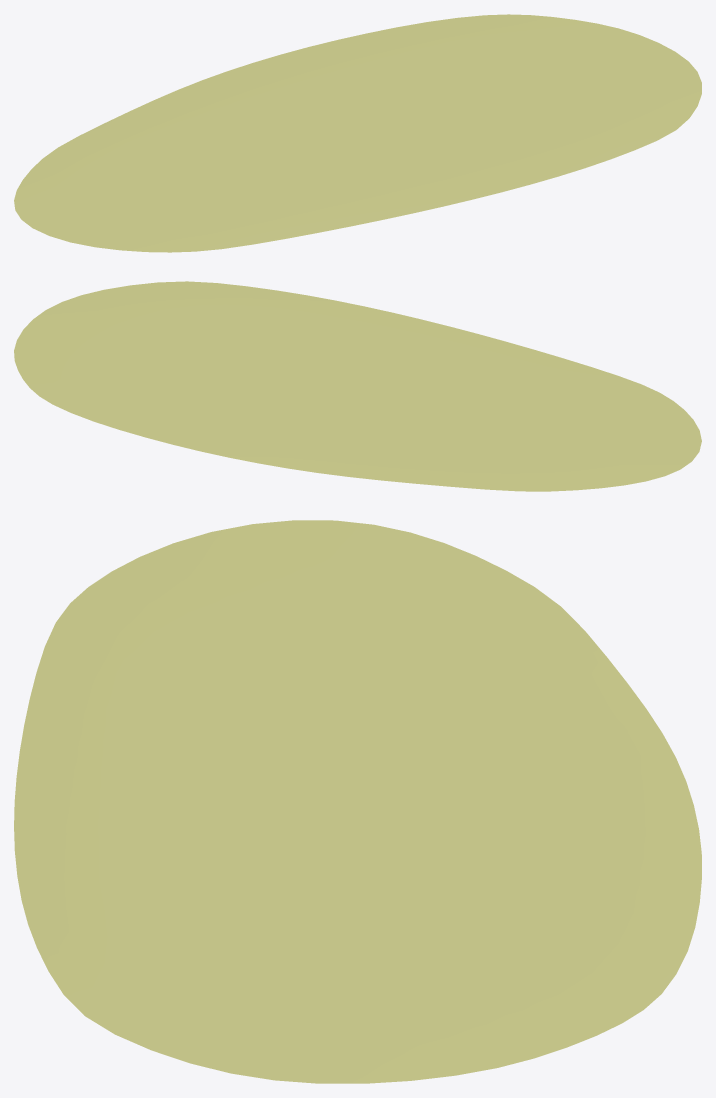
File: beach.glb
3 renders of one model, top to bottom at view 1: azimuth 30°, elevation 25°; view 2: azimuth 150°, elevation 25°; view 3: azimuth 270°, elevation 25°, orthographic. The views are drawn at different scales.
Parts seen in each view (by area): view 1: Beach; view 2: Beach; view 3: Beach.
Boxes of the visible parts, x1=… form: Beach: x1=14, y1=14, x2=701, y2=252; Beach: x1=14, y1=281, x2=701, y2=491; Beach: x1=14, y1=520, x2=701, y2=1083.
Size of the model in its own units: 90.86 by 0.0814 by 46.87.
